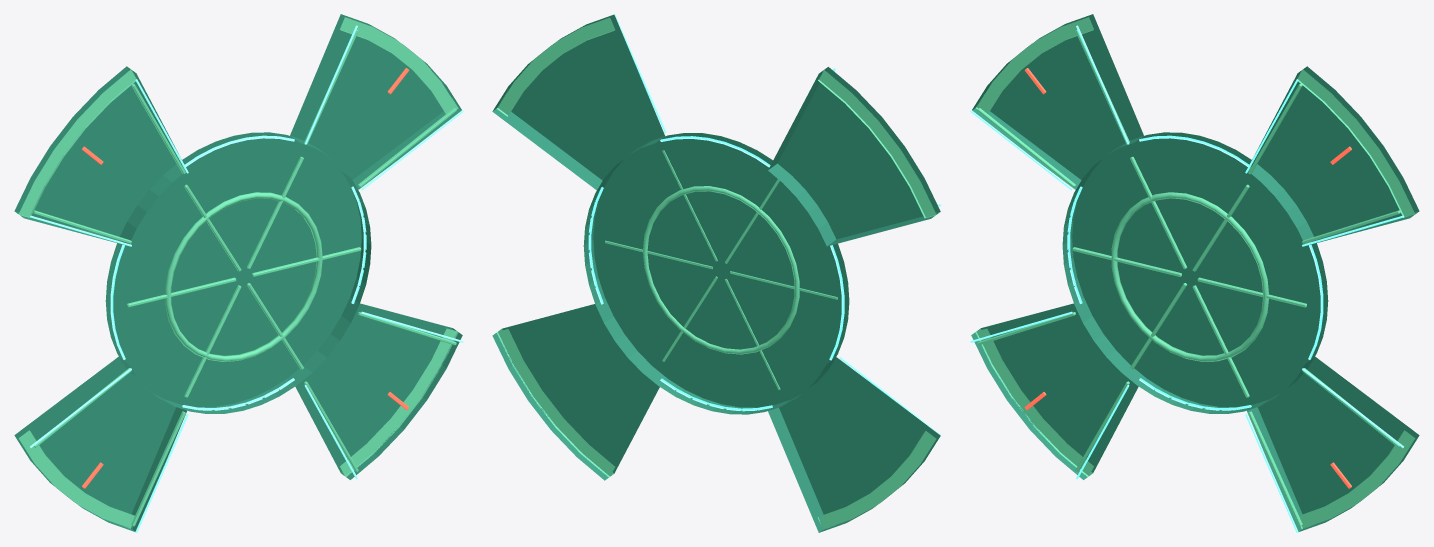
File: bio-panel-fun6-medium.glb
3 renders of one model, left to right at view 1: azimuth 30°, elevation 25°; view 2: azimuth 150°, elevation 25°; view 3: azimuth 330°, elevation 25°, orthographic.
Visible parts, largest first — view 1: RENDER_PANEL_SHELL, RENDER_PANEL_FRAME, RENDER_PANEL_SIGNAL, RENDER_PANEL_HAZARD; view 2: RENDER_PANEL_SHELL, RENDER_PANEL_FRAME, RENDER_PANEL_SIGNAL; view 3: RENDER_PANEL_SHELL, RENDER_PANEL_FRAME, RENDER_PANEL_SIGNAL, RENDER_PANEL_HAZARD.
Boxes of the visible parts, x1,y1,x2,y2 form: RENDER_PANEL_SHELL: (14,14,462,531); RENDER_PANEL_FRAME: (18,17,458,528); RENDER_PANEL_SIGNAL: (30,25,463,532); RENDER_PANEL_HAZARD: (82,68,409,488); RENDER_PANEL_SHELL: (492,14,940,532); RENDER_PANEL_FRAME: (496,17,936,529); RENDER_PANEL_SIGNAL: (588,14,941,436); RENDER_PANEL_SHELL: (971,14,1419,531); RENDER_PANEL_FRAME: (975,17,1415,529); RENDER_PANEL_SIGNAL: (970,25,1403,532); RENDER_PANEL_HAZARD: (1024,68,1351,488).
Size of what is drawn, in the model's own units: 36.85 by 36.85 by 1.95.
